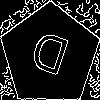D: (24, 30, 72, 85)
